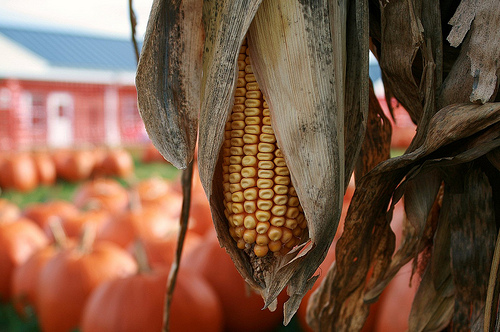corn: (206, 1, 337, 277)
